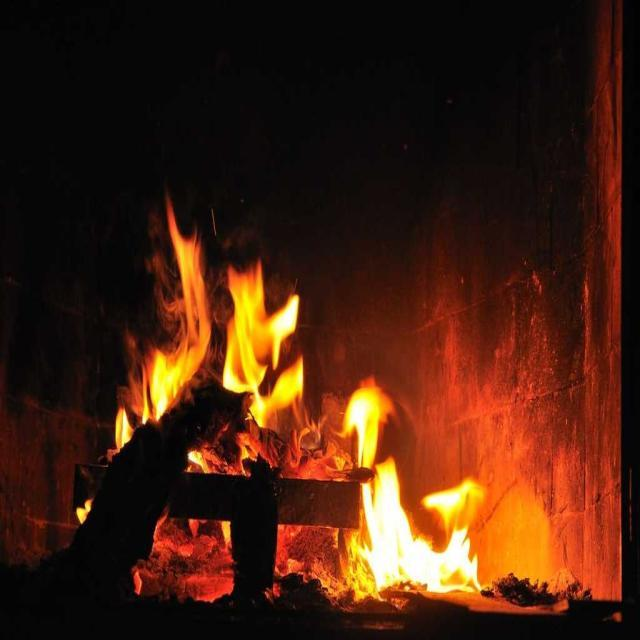Fire: (365, 454, 473, 594), (226, 274, 289, 376), (336, 392, 386, 452), (151, 352, 178, 384)
